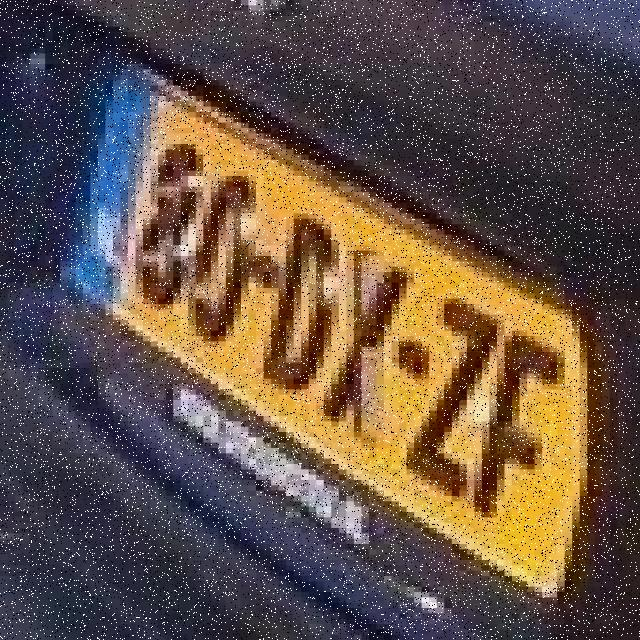licenseplate: (28, 34, 613, 590)
